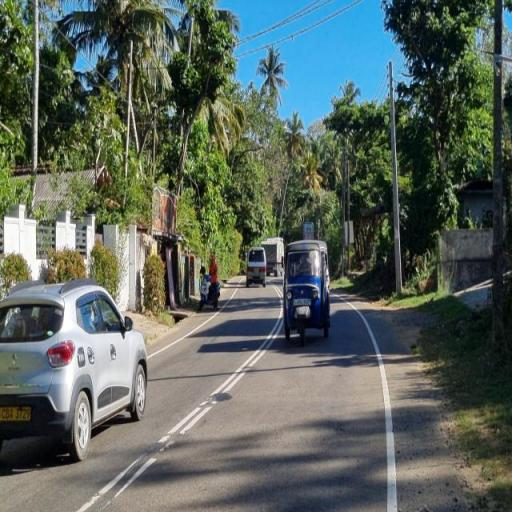double_white_line: (158, 315, 278, 453)
